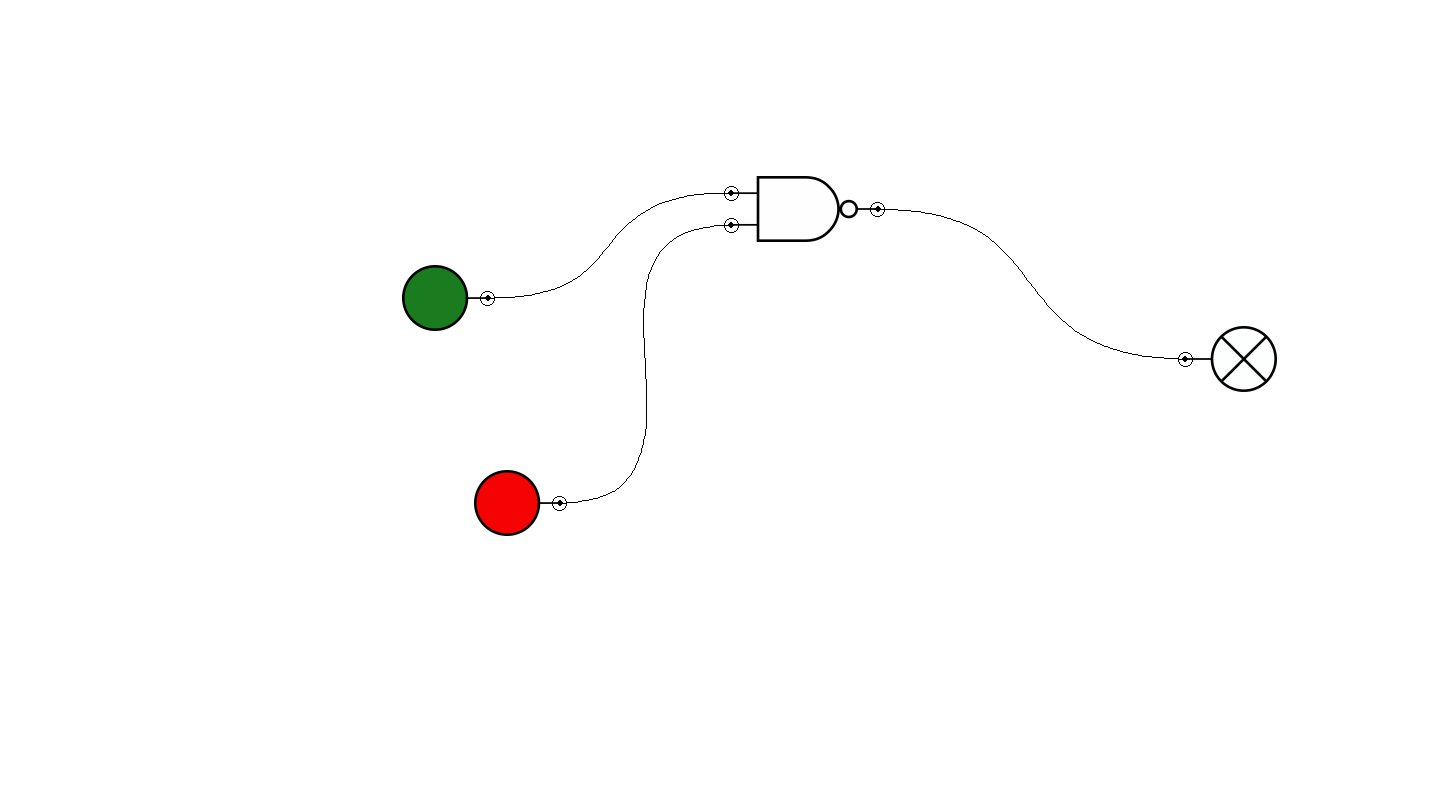bulb: (1178, 326, 1277, 392)
nand: (724, 176, 885, 242)
switch_False: (474, 470, 567, 536)
switch_True: (402, 265, 495, 331)
